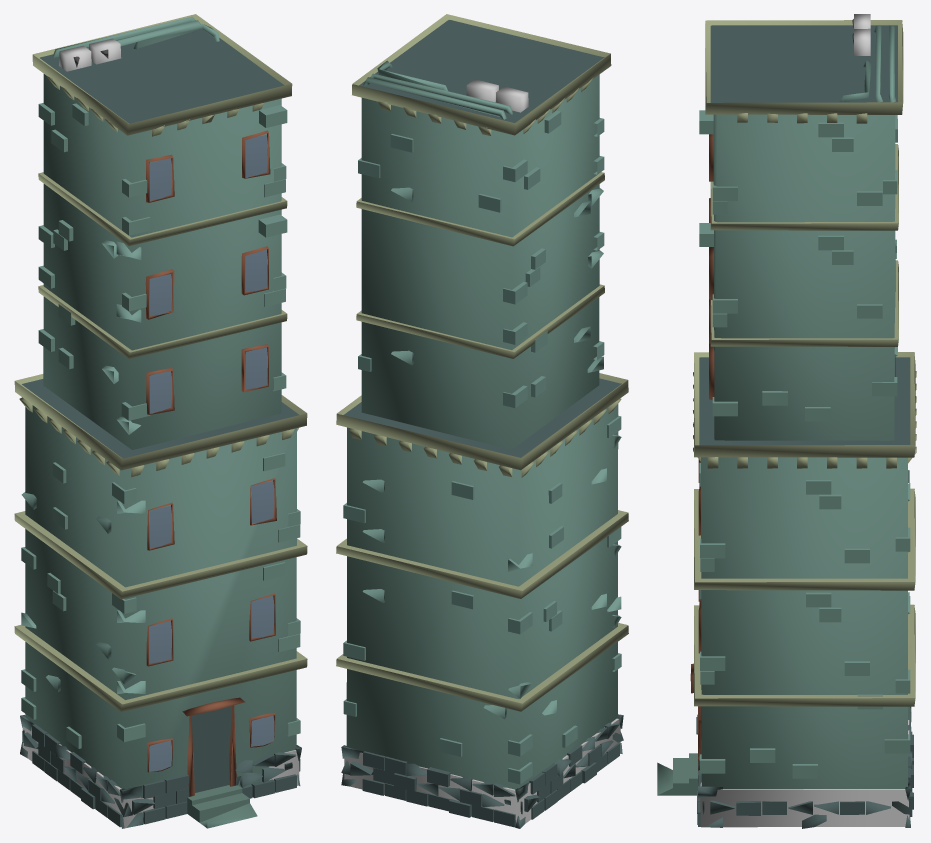
The model's file is skyscraper-a.low.glb.
3 renders of one model, left to right at view 1: azimuth 30°, elevation 25°; view 2: azimuth 150°, elevation 25°; view 3: azimuth 270°, elevation 25°, orthographic. The views are drawn at different scales.
Visible parts, largest first — view 1: 6Story_Stack_Mat; view 2: 6Story_Stack_Mat; view 3: 6Story_Stack_Mat.
Part boxes in pixels (bbox=[...]): 6Story_Stack_Mat: bbox=[14, 14, 307, 828]; 6Story_Stack_Mat: bbox=[336, 14, 628, 828]; 6Story_Stack_Mat: bbox=[657, 14, 916, 828].
Size of the model in its own units: 2.17 by 7.8 by 2.5.
